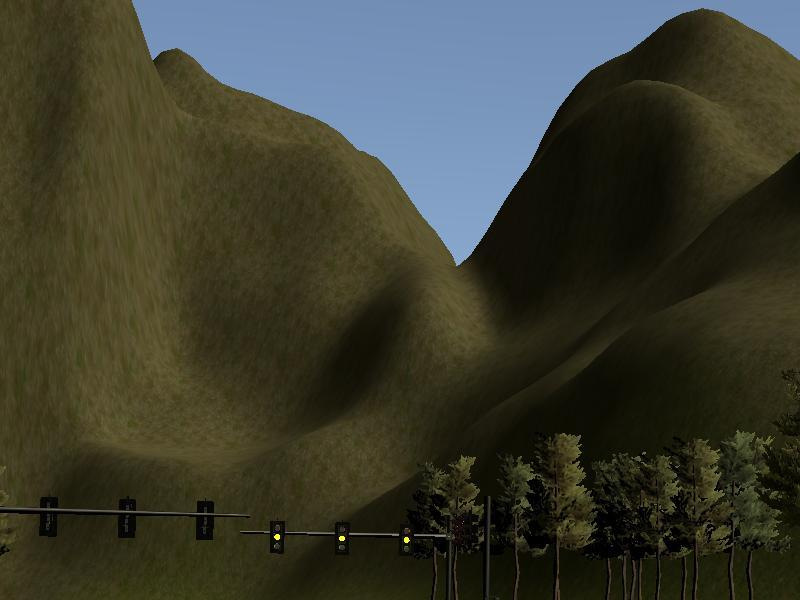Yellow: (270, 520, 285, 554), (334, 521, 349, 555), (400, 524, 414, 557)
